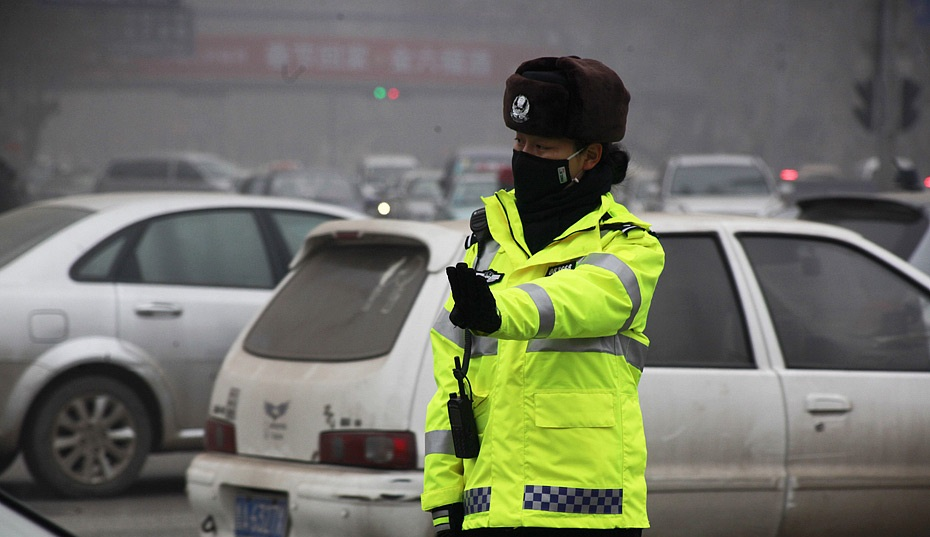face_mask: (510, 110, 587, 198)
